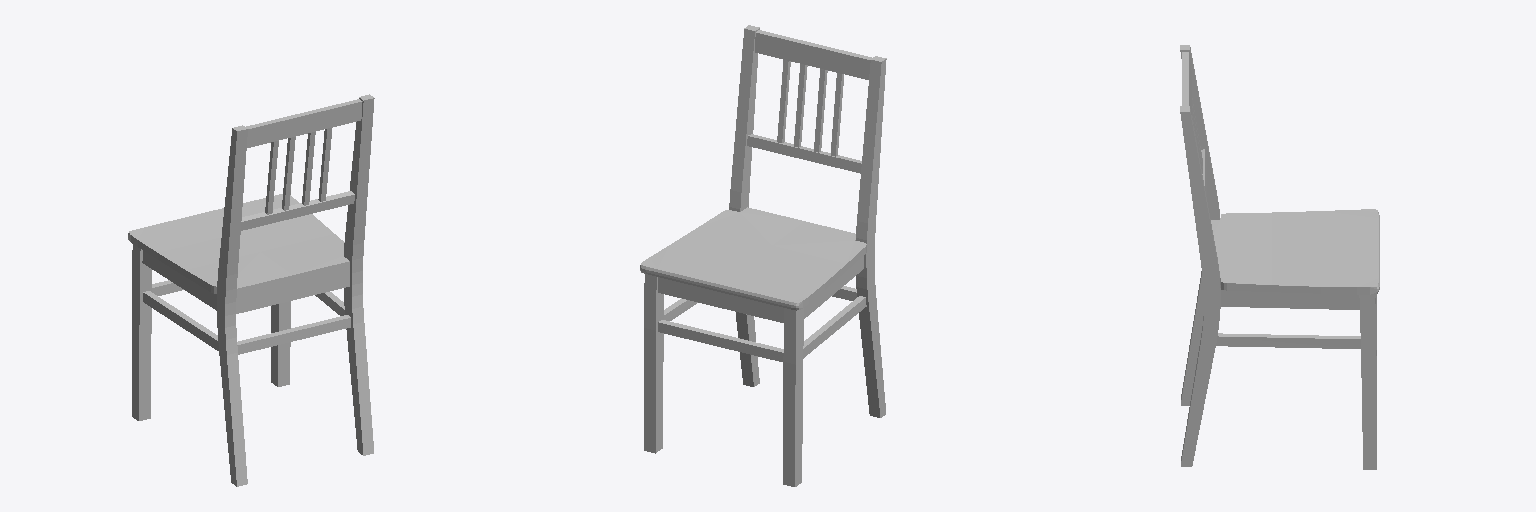
File: cadeira.obj
3 views of the same model, side by side, from view 1: azimuth 30°, elevation 25°; view 2: azimuth 150°, elevation 25°; view 3: azimuth 270°, elevation 25° (orthographic).
Parts seen in each view (by area): view 1: Backplanks_2_low_Plane.006, Seat_low_Plane.005; view 2: Backplanks_2_low_Plane.006, Seat_low_Plane.005; view 3: Backplanks_2_low_Plane.006, Seat_low_Plane.005.
Part boxes in pixels (x1,y1,x2,y2): Backplanks_2_low_Plane.006: (132,94,374,486); Seat_low_Plane.005: (128,194,349,295); Backplanks_2_low_Plane.006: (644,25,886,486); Seat_low_Plane.005: (640,207,866,310); Backplanks_2_low_Plane.006: (1180,45,1376,469); Seat_low_Plane.005: (1211,209,1379,294).
Size of the model in its own units: 0.5086 by 1.08 by 0.5485.